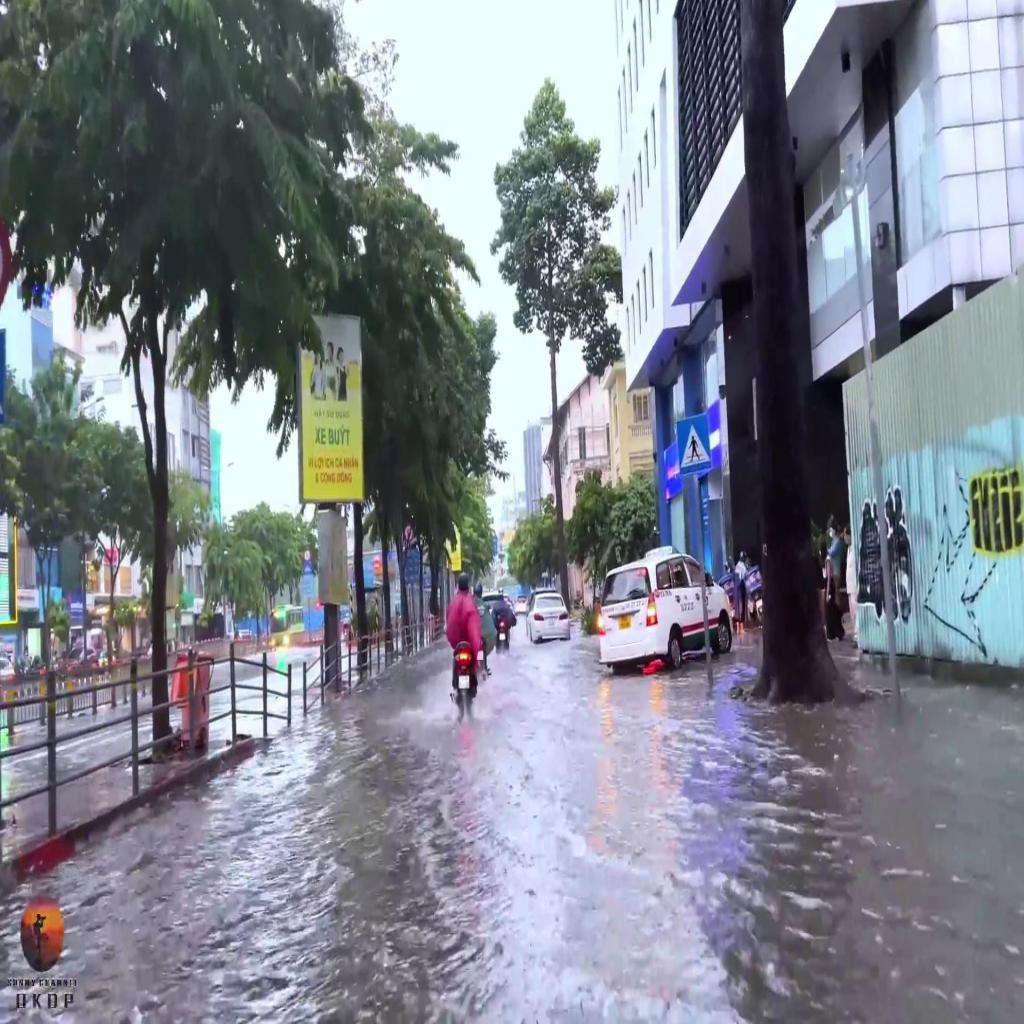duong_nguoi_di_bo_sang_ngang: (676, 413, 713, 476)
